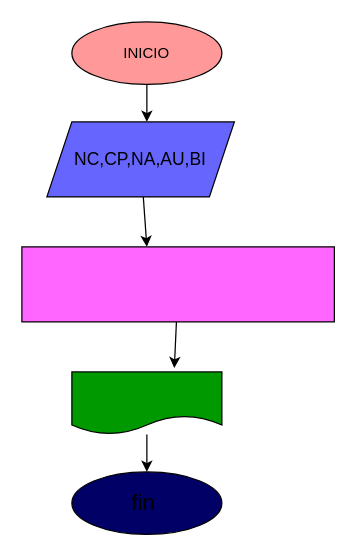
The diagram is 356 pixels wide and 556 high, and some of its shapes have lost their labels. The centre of each missing label's shape, as x and y in pixels:
"nd" goes at point 146,402.
"nd=0.3*nc+0.3np+0.1*na+0.1*au+0.2*bi" goes at point 177,284.
